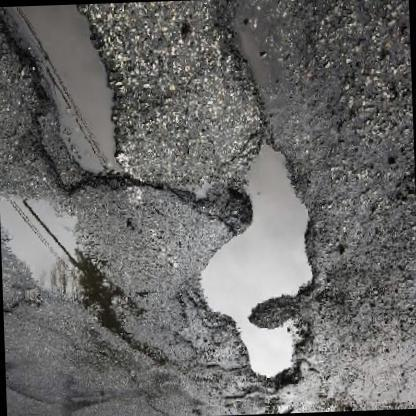pothole: (192, 128, 317, 388), (0, 4, 132, 194), (0, 189, 125, 330), (216, 3, 280, 100)
